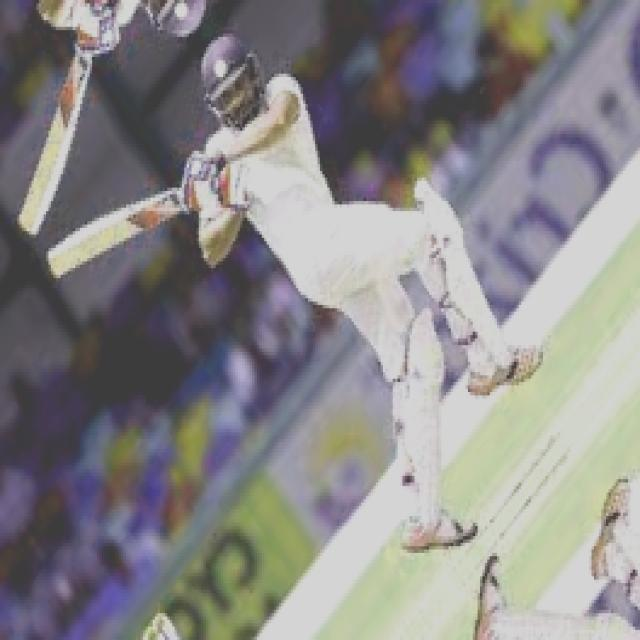toe: (40, 246, 74, 287)
